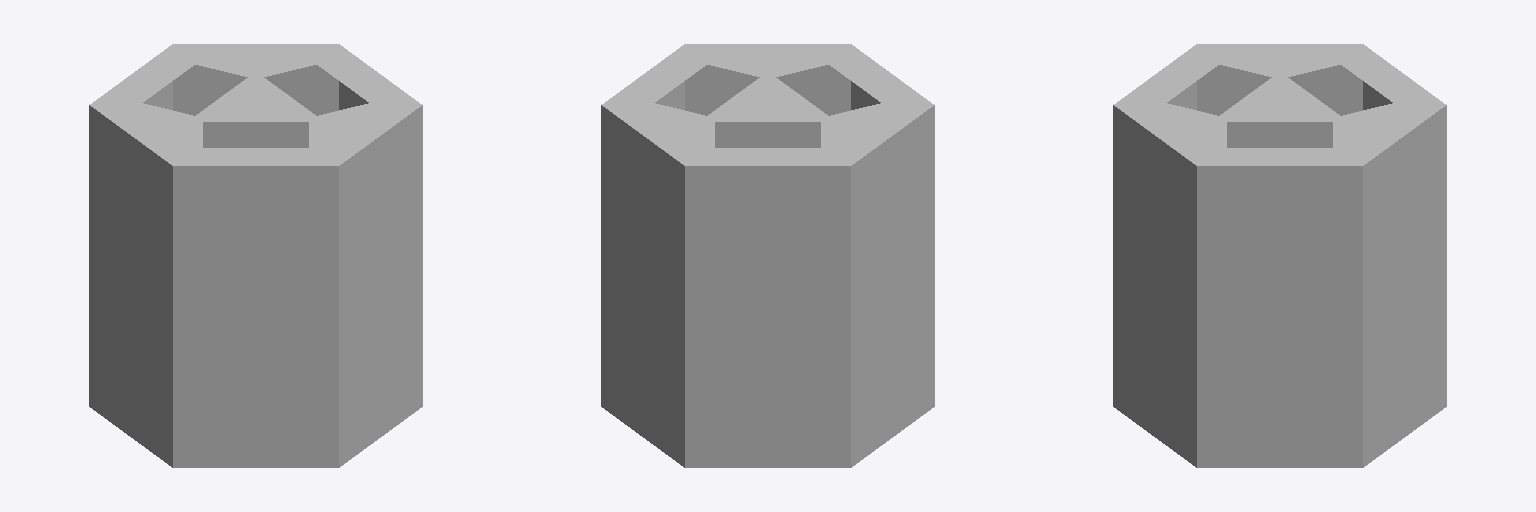
The model's file is Celluvoyer_0_1.obj.
3 renders of one model, left to right at view 1: azimuth 30°, elevation 25°; view 2: azimuth 150°, elevation 25°; view 3: azimuth 270°, elevation 25°, orthographic.
Parts seen in each view (by area): view 1: Cylinder; view 2: Cylinder; view 3: Cylinder.
Part boxes in pixels (bbox=[...]): Cylinder: bbox=[89, 44, 422, 467]; Cylinder: bbox=[601, 44, 934, 467]; Cylinder: bbox=[1113, 44, 1446, 467].
Size of the model in its own units: 0.1732 by 0.2 by 0.2.